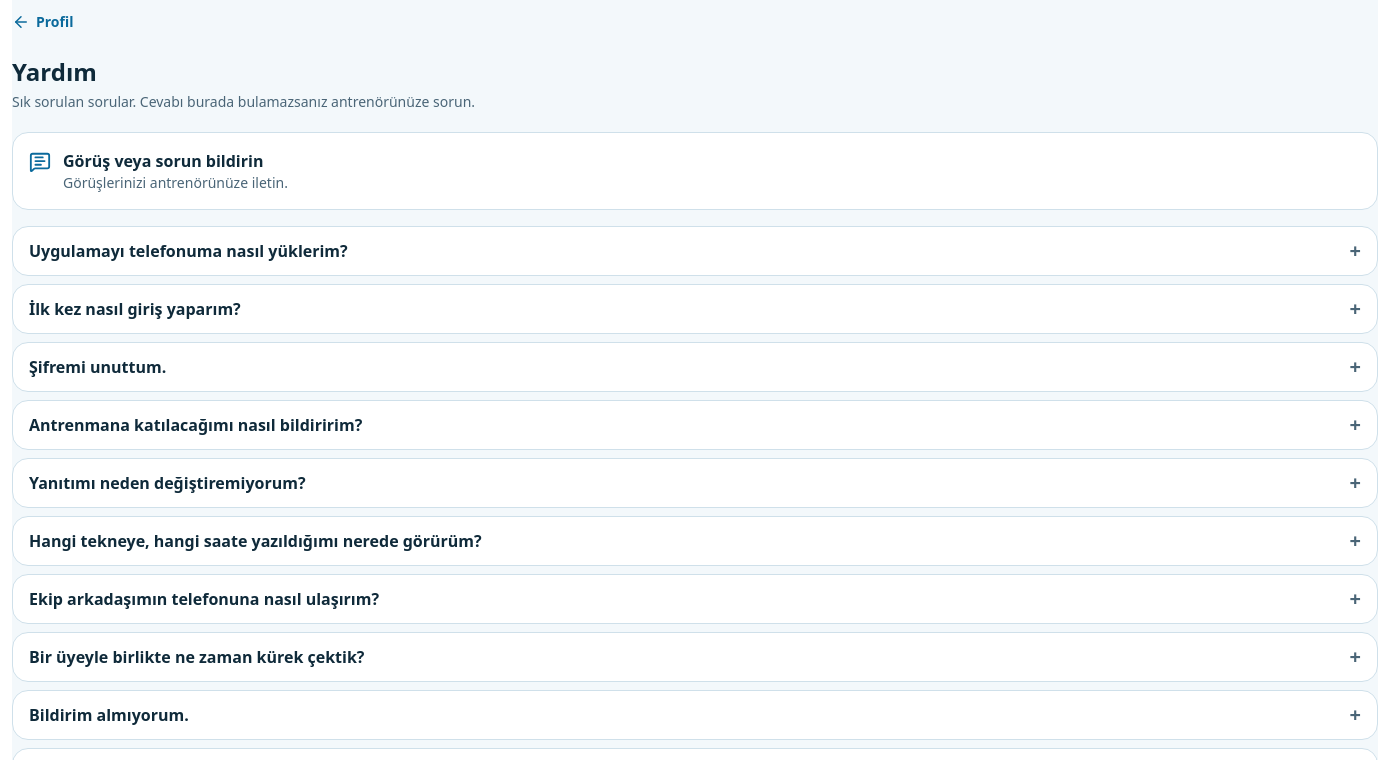
Test: HelpPage › lists every question as a collapsible answer that opens on click
Step 1. Click the text "Uygulamayı telefonuma nasıl yüklerim?" → point(188, 251), box [29,239,348,263]
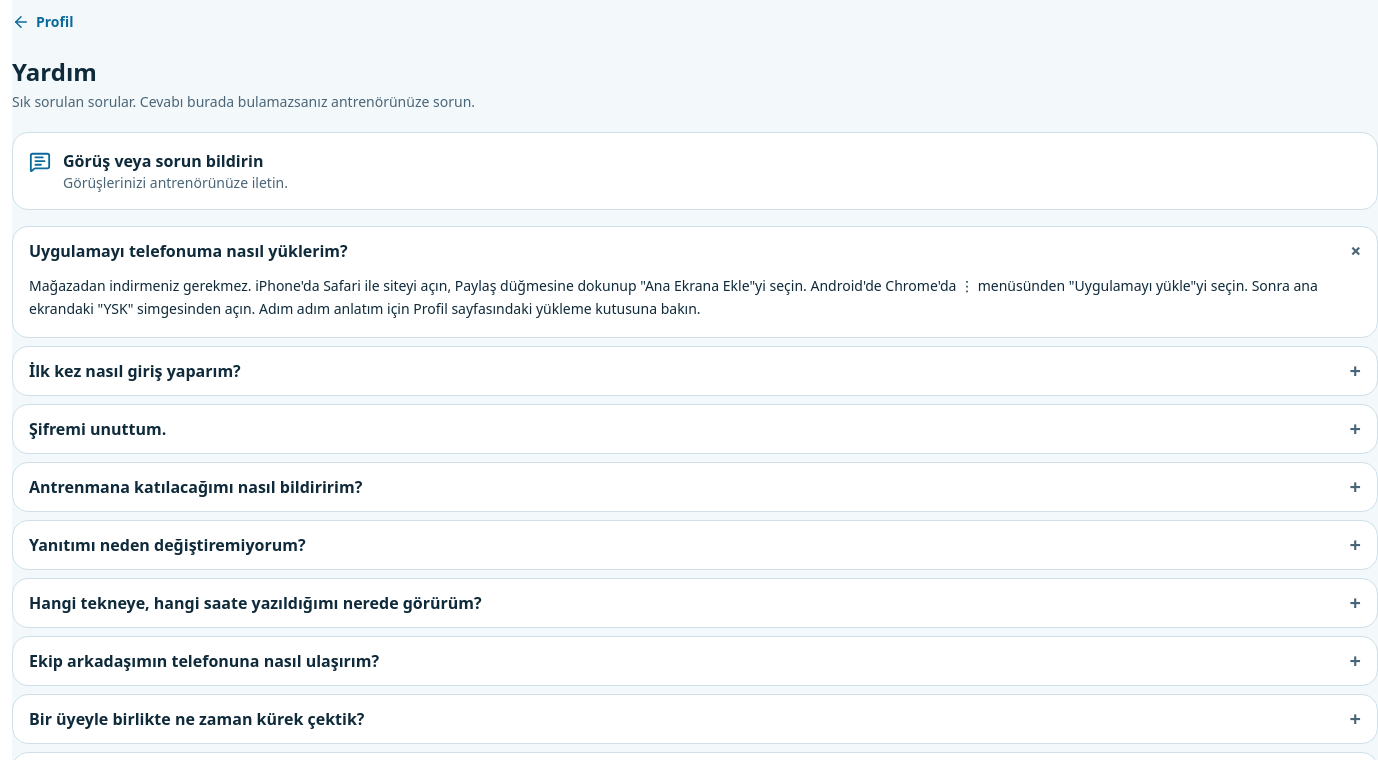
Result: the text "Mağazadan indirmeniz gerekmez. iPhone'da Safari ile siteyi açın, Paylaş düğmesine dokunup \"Ana Ekrana Ekle\"yi seçin. And" is shown at [29,276,1318,318]
